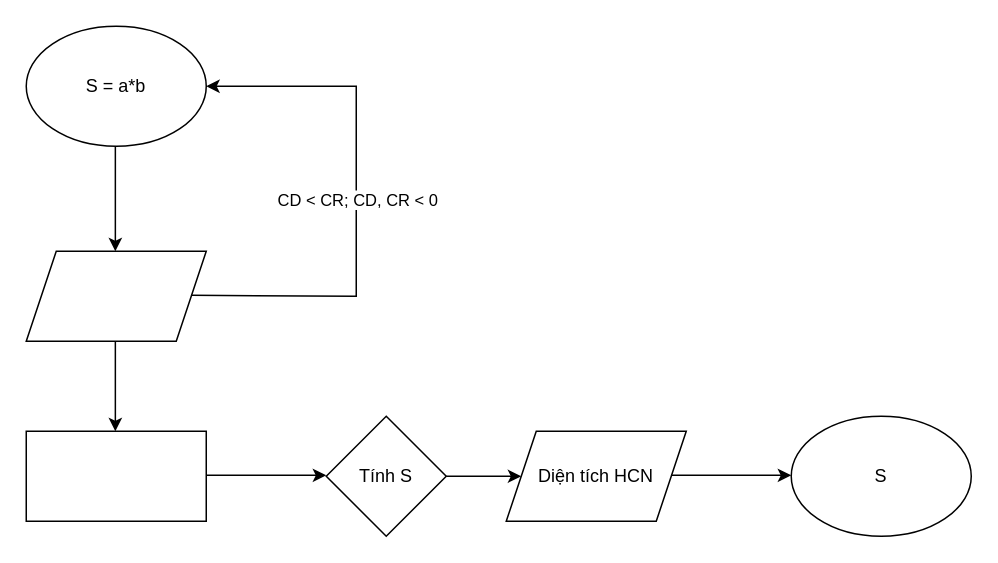
The diagram is 998 pixels wide and 563 high, and some of its shapes have lost their labels. The shapes that lost their labels are listed below. From the top down, each one's centre as x and y in pixels, then its label:
At (115,295): "CD, CR".
At (115,475): "S = CD * CR".
